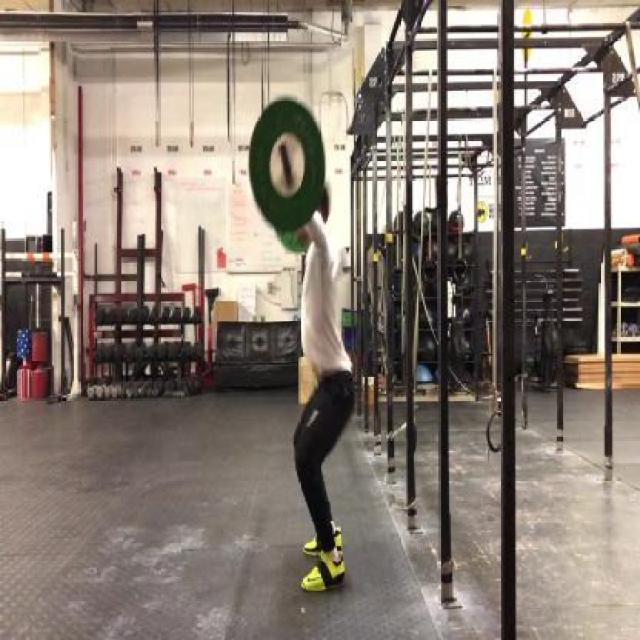barbell: (243, 89, 341, 238)
